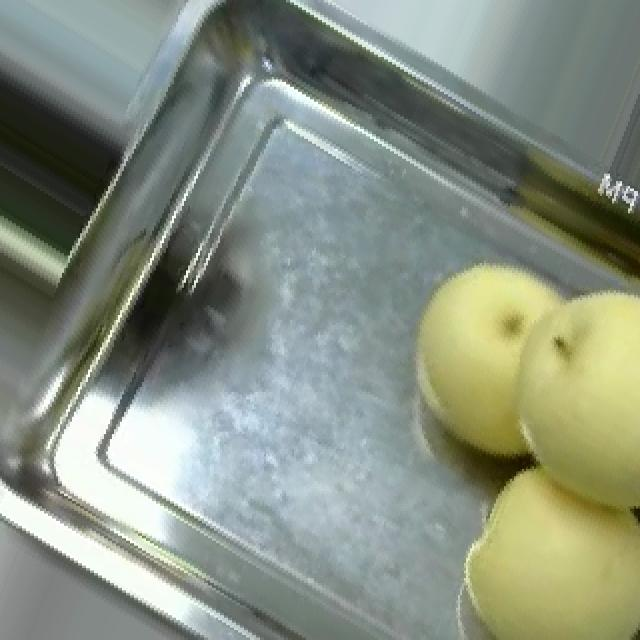Fruit: (384, 236, 638, 504), (438, 444, 640, 640)
